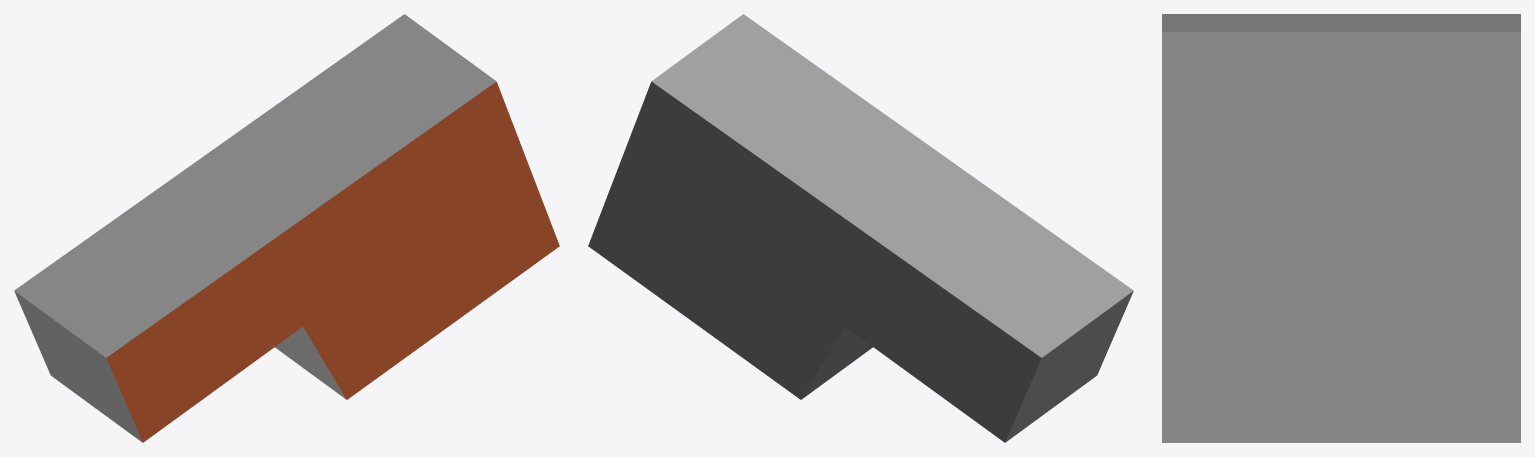
Rendered from construction_2406_assumed_A_Casa_h6m.obj.
3 renders of one model, left to right at view 1: azimuth 30°, elevation 25°; view 2: azimuth 150°, elevation 25°; view 3: azimuth 270°, elevation 25°, orthographic. The views are drawn at different scales.
Visible parts, largest first — view 1: construction_2406_assumed_A_Casa; view 2: construction_2406_assumed_A_Casa; view 3: construction_2406_assumed_A_Casa.
Part boxes in pixels (x1,y1,x2,y2): construction_2406_assumed_A_Casa: (14,14,559,442); construction_2406_assumed_A_Casa: (588,14,1133,442); construction_2406_assumed_A_Casa: (1162,14,1520,442).
Size of the model in its own units: 17.07 by 10.14 by 6.
